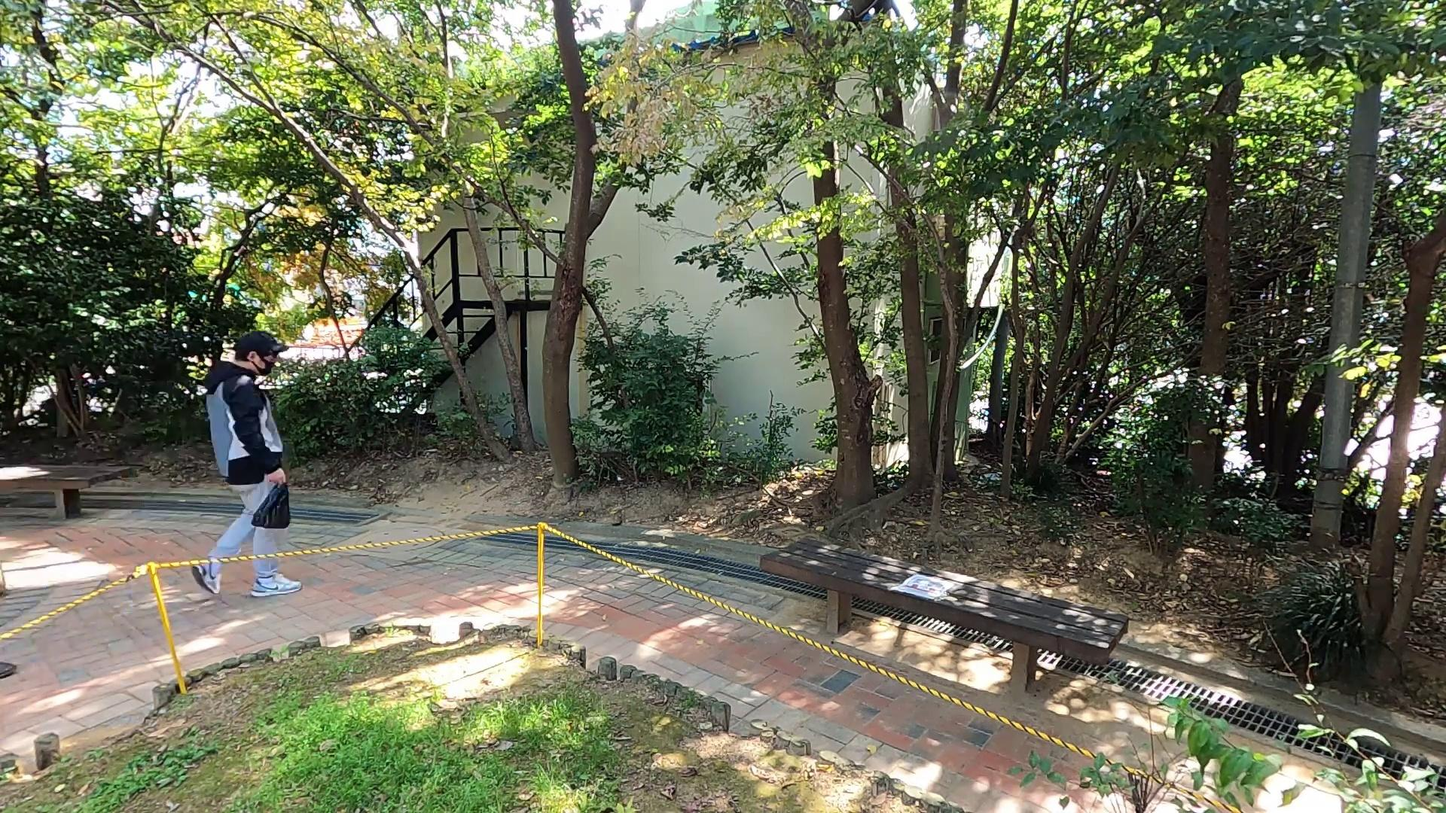person: (176, 329, 300, 607)
trash: (246, 475, 299, 536)
